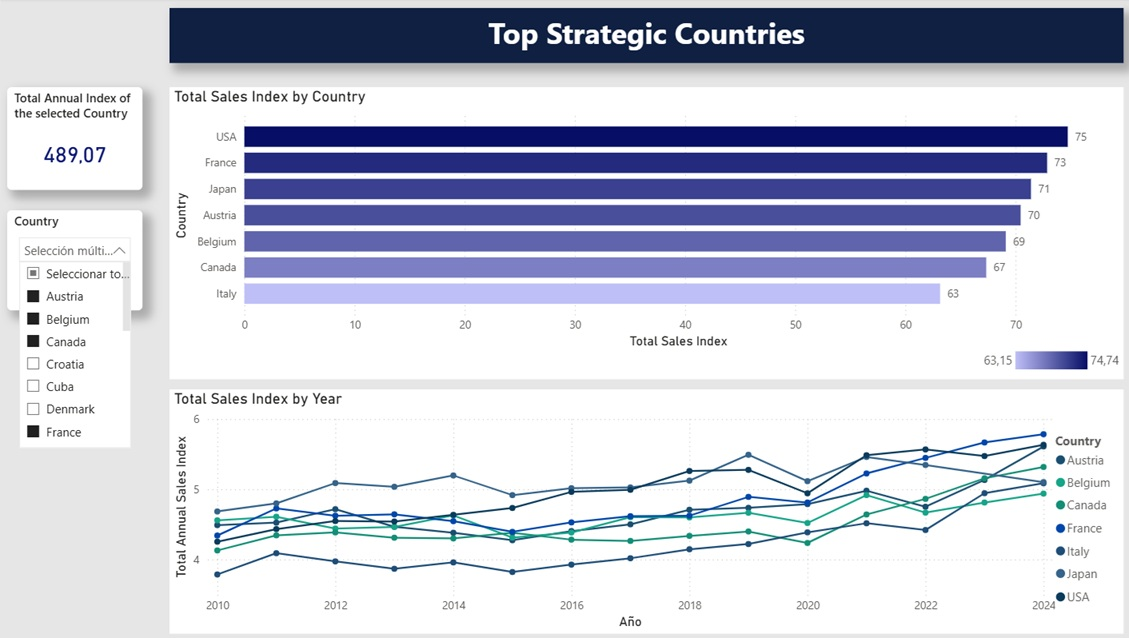

This screenshot's page, from the dashboard's own definition file:
{"tool":"powerbi","page":{"name":"Page 3","canvas":[1280,720],"ordinal":3},"visuals":[{"type":"slicer","title":"Country","fields":{"Values":["Countries.country"]},"box":[7.4,234.7,150,111.3],"z":0},{"type":"card","title":"Total Annual Index of the selected Country","fields":{"Values":["_Metrics.Total Annual Sales Index"]},"box":[7.4,98.5,150,114.1],"z":1000},{"type":"clusteredBarChart","title":"Total Sales Index by Country","fields":{"Category":["Countries.country"],"Y":["_Metrics.Total Annual Sales Index"]},"box":[186.8,98.5,1058.2,323.9],"z":2000},{"type":"lineChart","title":"Total Sales Index by Year","fields":{"Category":["Results.year"],"Y":["_Metrics.Total Annual Sales Index"],"Series":["Countries.country"]},"box":[186.8,433.4,1058.2,270.5],"z":3000},{"type":"textbox","box":[186.8,11,1058.2,60.7],"z":4000}]}

Visuals, with their boxes in screenshot pixels (x1, y1, x2, y2), scaled from the page's 1280x720 canvas onto the 1129x638 screenshot:
"Country" slicer: crop(7, 208, 139, 307)
"Total Annual Index of the selected Country" card: crop(7, 87, 139, 188)
"Total Sales Index by Country" clusteredBarChart: crop(165, 87, 1098, 374)
"Total Sales Index by Year" lineChart: crop(165, 384, 1098, 624)
textbox: crop(165, 10, 1098, 64)
